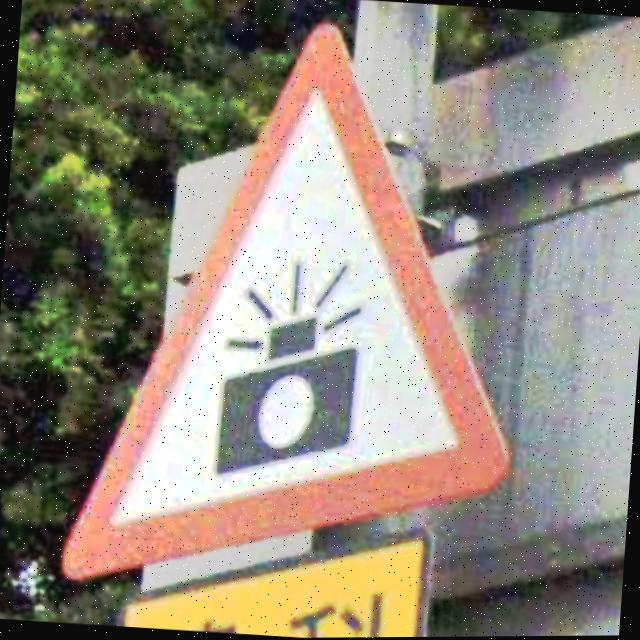speedcamera: (63, 24, 506, 578)
